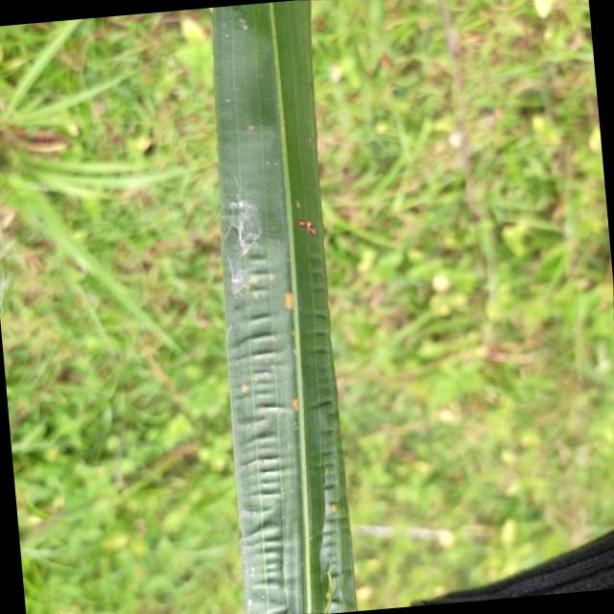Boron: (213, 0, 358, 614)
